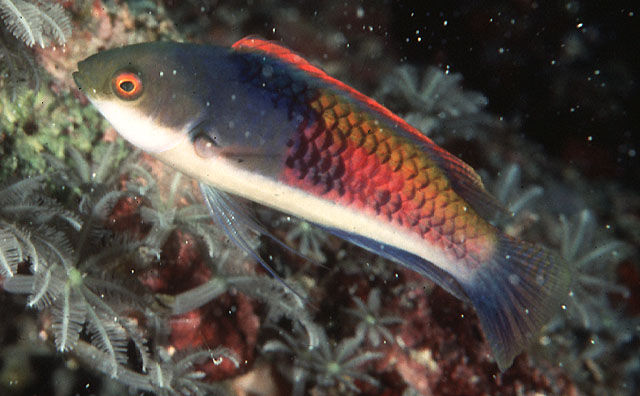fish: (73, 35, 576, 374)
